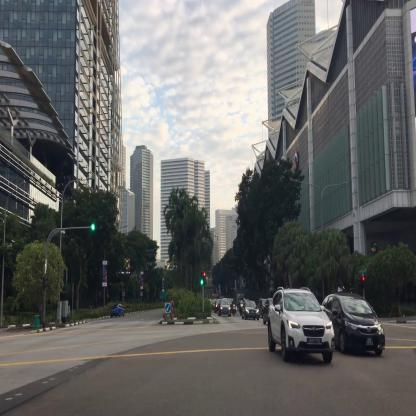green_traffic_light: (91, 224, 101, 230), (200, 272, 203, 284)
